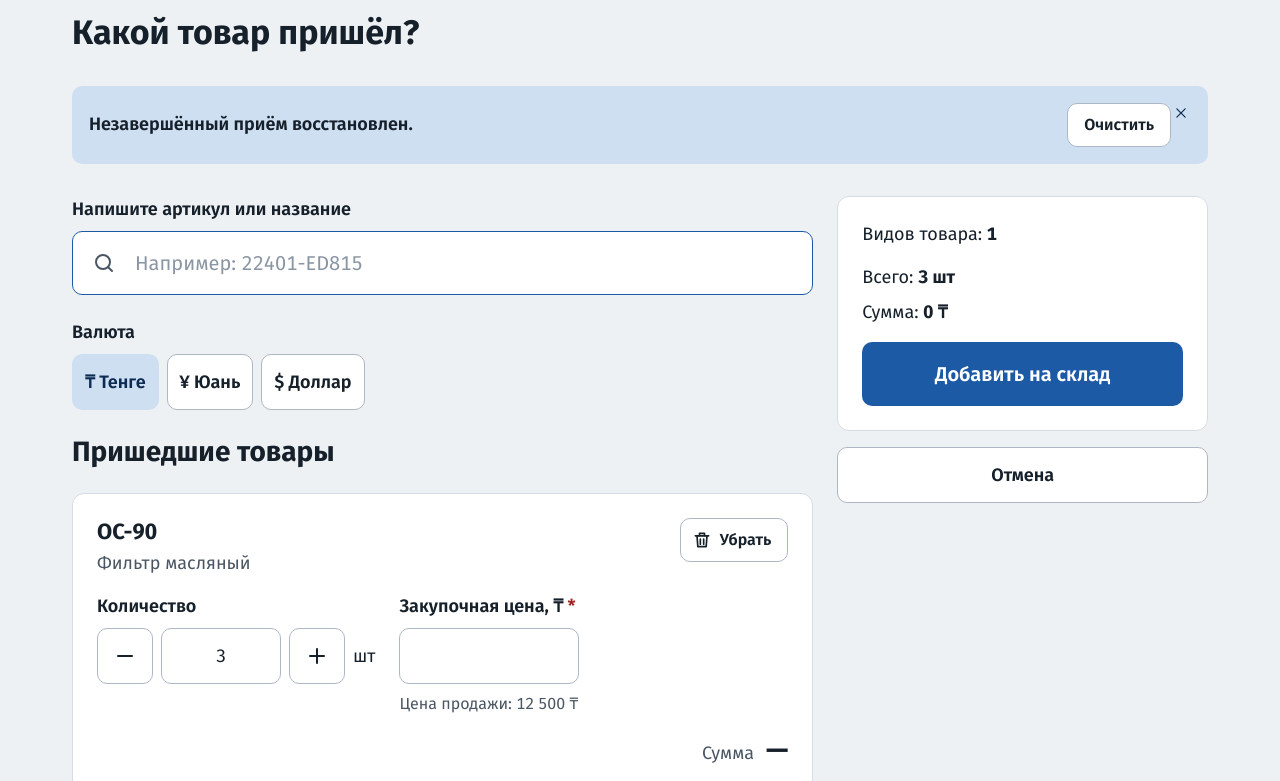
ReceivePage › an empty quantity blocks the button and says what to fix
Step 1. Clear the field named "Количество OC-90" → {"x": 221, "y": 656}, box [161, 628, 281, 684]
(page scrolled)
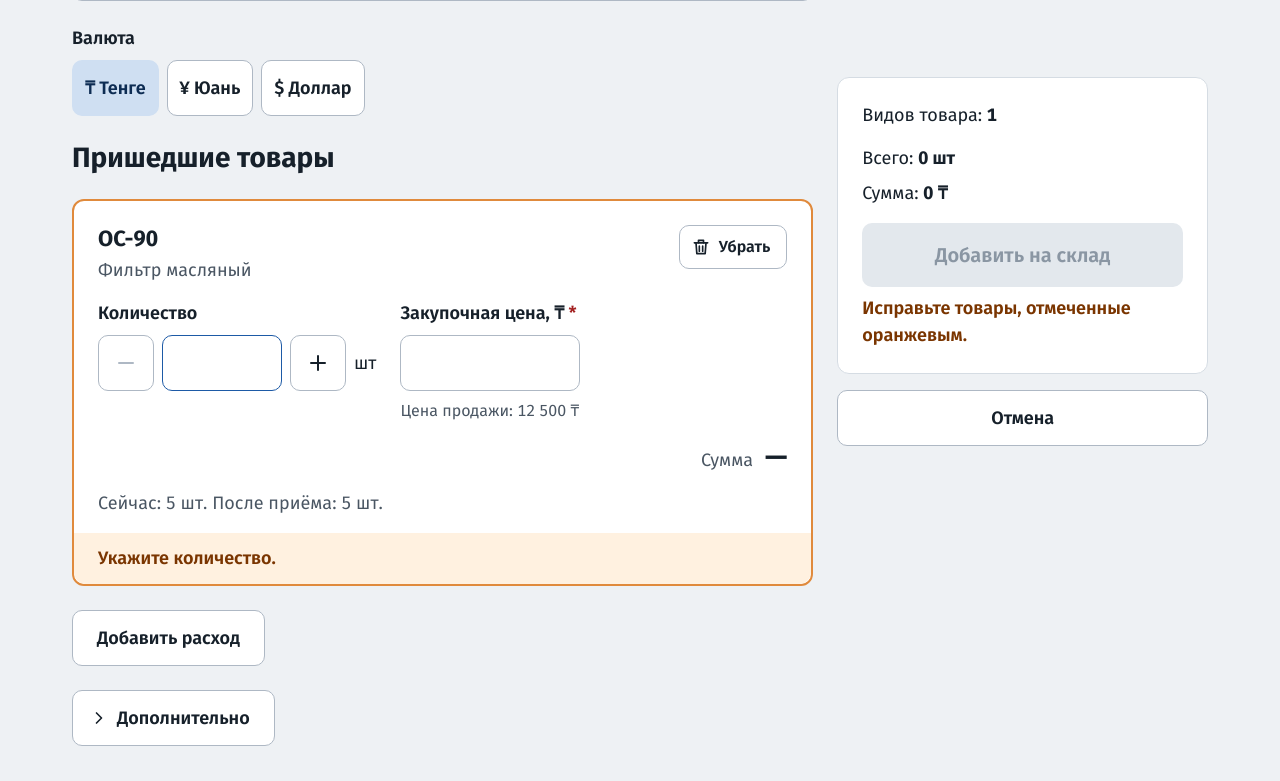
Result: the text "Укажите количество." is shown at [74, 533, 811, 584]
Result: the button "Добавить на склад" is disabled at [862, 223, 1183, 287]
Result: the text "Исправьте товары, отмеченные оранжевым." is shown at [862, 297, 1131, 346]
